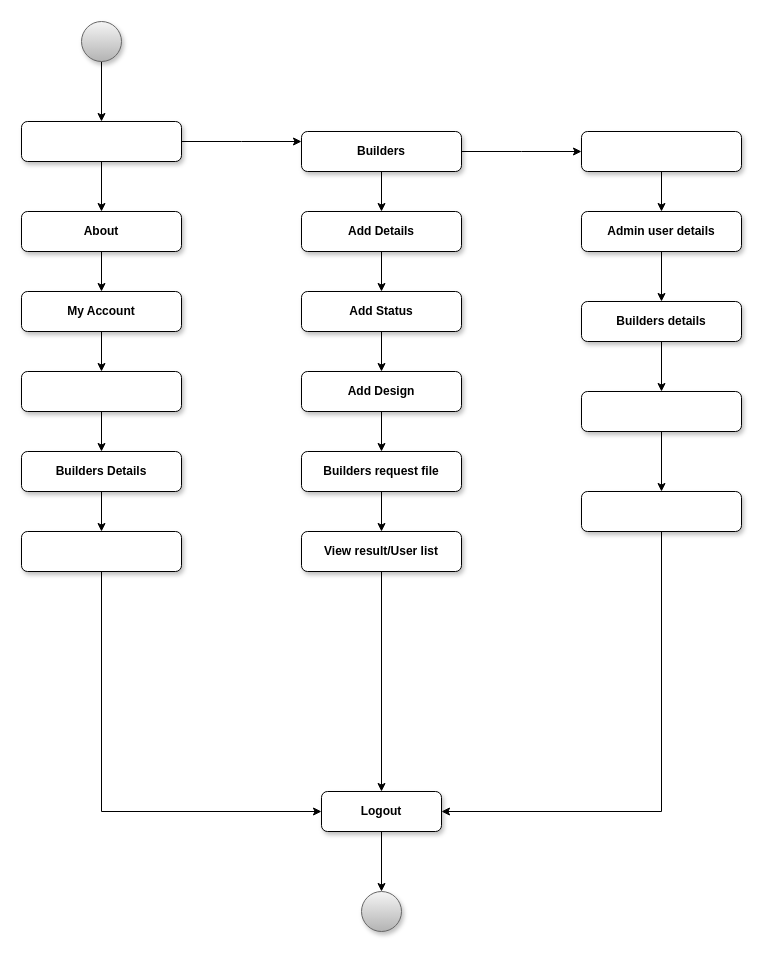
Some shapes in this 765 by 956 pixel diagram are drawn without their labels. Each missing label, with the centre of its shape:
"Admin" goes at (x=662, y=152).
"Categories" goes at (x=102, y=552).
"Edit/Satus" goes at (x=102, y=392).
"Login" goes at (x=102, y=142).
"Rating details" goes at (x=662, y=512).
"View Status" goes at (x=662, y=412).
